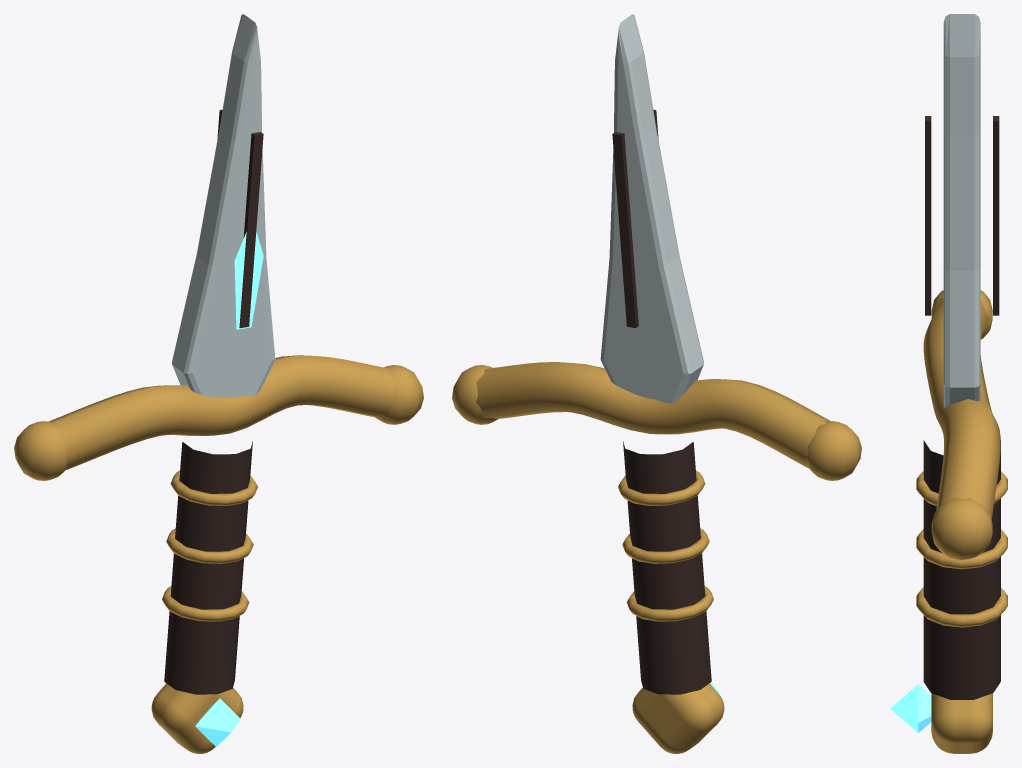
File: weapon_dagger.glb
3 renders of one model, left to right at view 1: azimuth 30°, elevation 25°; view 2: azimuth 150°, elevation 25°; view 3: azimuth 270°, elevation 25°, orthographic. The views are drawn at different scales.
Parts seen in each view (by area): view 1: blade_mesh, weapon_guard, weapon_grip, weapon_pommel, weapon_guard_cap_-1, weapon_fuller_1, weapon_guard_cap_1, weapon_rune, weapon_trim_wrap_1, weapon_trim_wrap_2, weapon_trim_wrap_0, weapon_rune_pommel; view 2: blade_mesh, weapon_guard, weapon_grip, weapon_pommel, weapon_guard_cap_-1, weapon_fuller_-1, weapon_guard_cap_1, weapon_trim_wrap_1, weapon_trim_wrap_2, weapon_trim_wrap_0; view 3: blade_mesh, weapon_grip, weapon_guard, weapon_pommel, weapon_guard_cap_1, weapon_trim_wrap_2, weapon_fuller_-1, weapon_fuller_1, weapon_trim_wrap_1, weapon_rune_pommel, weapon_trim_wrap_0, weapon_guard_cap_-1.
Part boxes in pixels (box(x1,y1,x2,y2)): blade_mesh: box(172, 14, 275, 397); weapon_guard: box(49, 355, 396, 470); weapon_grip: box(164, 441, 252, 694); weapon_pommel: box(151, 683, 243, 753); weapon_guard_cap_-1: box(14, 421, 67, 480); weapon_fuller_1: box(239, 132, 263, 328); weapon_guard_cap_1: box(374, 365, 423, 424); weapon_rune: box(234, 232, 263, 329); weapon_trim_wrap_1: box(166, 528, 253, 563); weapon_trim_wrap_2: box(162, 586, 249, 621); weapon_trim_wrap_0: box(170, 470, 257, 505); weapon_rune_pommel: box(195, 698, 240, 746); blade_mesh: box(600, 14, 703, 404); weapon_guard: box(476, 362, 830, 468); weapon_grip: box(623, 441, 711, 694); weapon_pommel: box(632, 683, 724, 753); weapon_guard_cap_-1: box(806, 421, 861, 480); weapon_fuller_-1: box(612, 132, 638, 328); weapon_guard_cap_1: box(452, 365, 497, 424); weapon_trim_wrap_1: box(622, 528, 709, 563); weapon_trim_wrap_2: box(626, 586, 713, 621); weapon_trim_wrap_0: box(618, 470, 705, 505); blade_mesh: box(943, 14, 980, 407); weapon_grip: box(923, 440, 1000, 699); weapon_guard: box(923, 298, 1000, 518); weapon_pommel: box(931, 693, 992, 753); weapon_guard_cap_1: box(931, 498, 992, 560); weapon_trim_wrap_2: box(916, 587, 1007, 627); weapon_fuller_-1: box(993, 116, 999, 315); weapon_fuller_1: box(925, 116, 931, 315); weapon_trim_wrap_1: box(916, 529, 1007, 569); weapon_rune_pommel: box(890, 684, 931, 732); weapon_trim_wrap_0: box(916, 471, 1007, 506); weapon_guard_cap_-1: box(931, 290, 992, 339).
Bounding box in the file's own units: 0.9609 × 1.64 × 0.2287.
